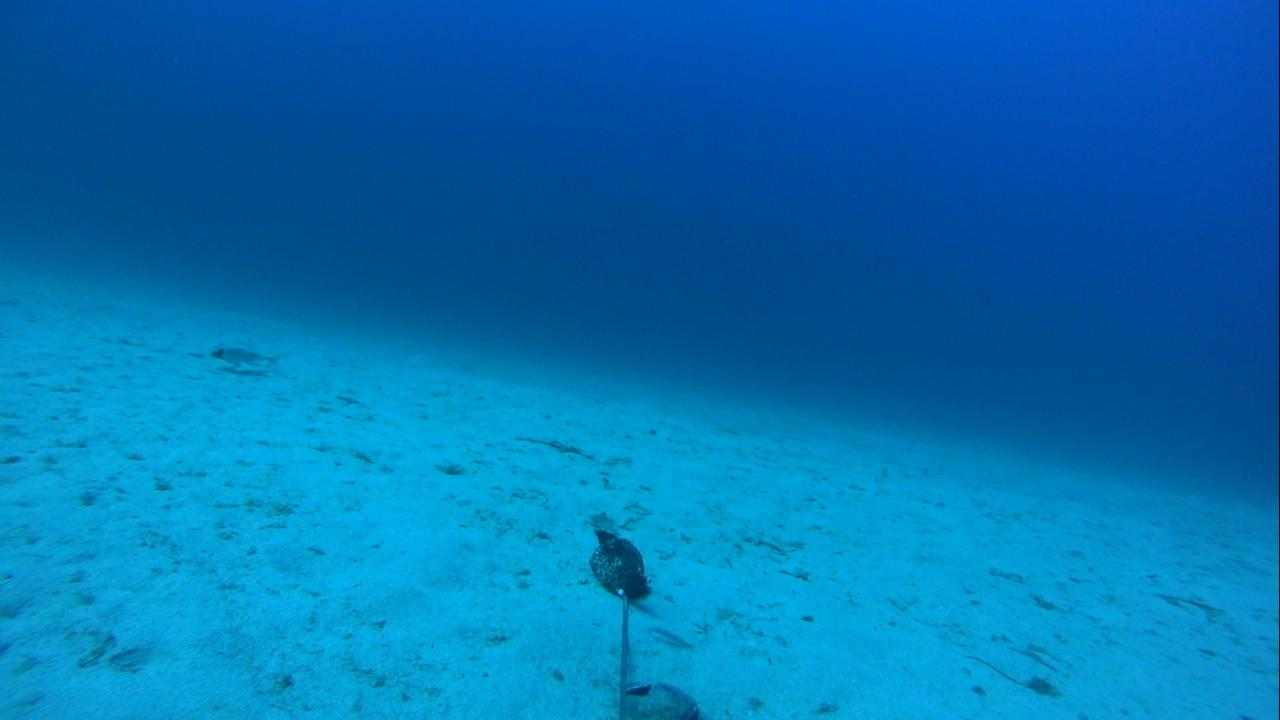dactylopterus: (204, 333, 292, 385)
raor: (642, 625, 698, 649)
